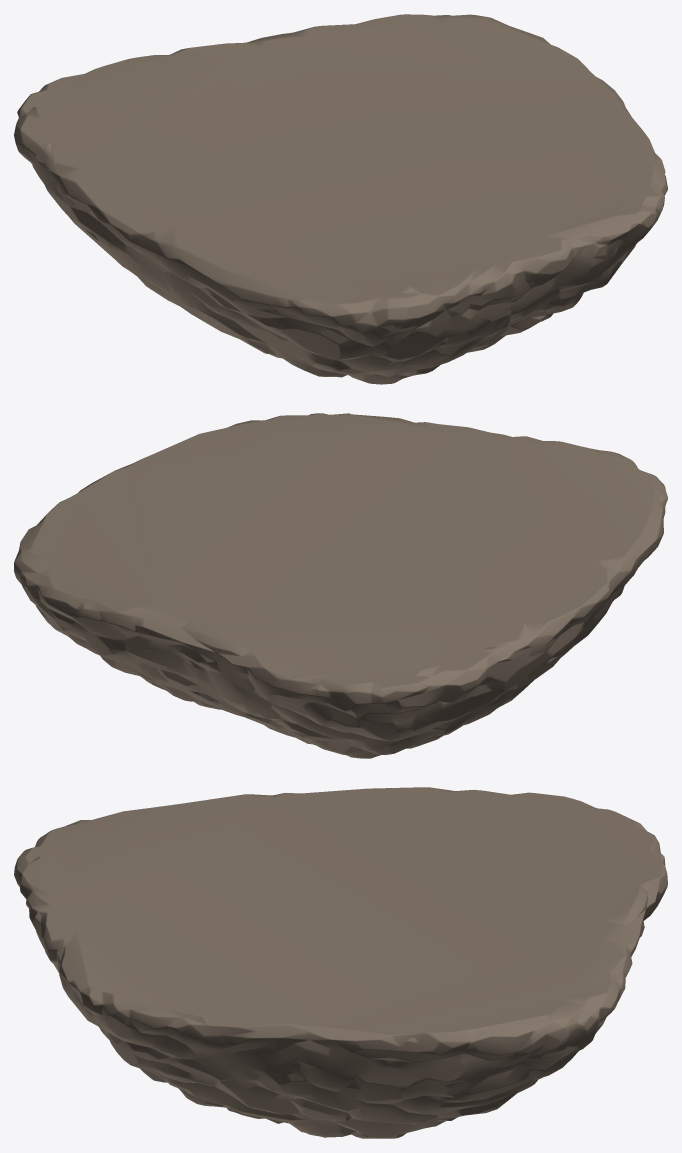
The model's file is IlhaG1.fbx.
The picture shows the model from 3 angles, top to bottom: view 1: azimuth 30°, elevation 25°; view 2: azimuth 150°, elevation 25°; view 3: azimuth 270°, elevation 25°; orthographic projection. The views are drawn at different scales.
Visible parts, largest first — view 1: IlhaG1; view 2: IlhaG1; view 3: IlhaG1.
Boxes of the visible parts, x1=… form: IlhaG1: x1=14, y1=14, x2=667, y2=384; IlhaG1: x1=14, y1=413, x2=667, y2=758; IlhaG1: x1=14, y1=787, x2=667, y2=1138.
Size of the model in its own units: 5640 by 2120 by 6183.
